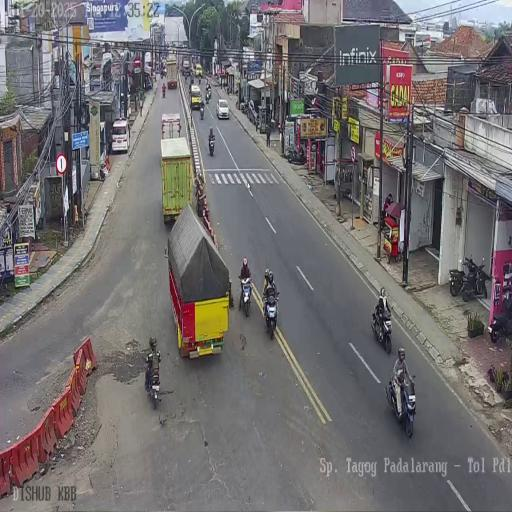3: (166, 204, 230, 360), (160, 134, 192, 225), (162, 112, 181, 139), (165, 56, 178, 90), (144, 52, 153, 78), (182, 58, 190, 76)
car: (110, 118, 130, 154), (190, 84, 202, 110), (216, 98, 230, 120), (247, 99, 258, 125), (195, 63, 202, 77)
truck: (386, 371, 416, 438), (461, 254, 489, 302), (372, 302, 392, 354), (488, 300, 512, 342), (264, 291, 279, 339), (238, 276, 252, 318), (149, 364, 161, 408), (449, 264, 465, 296), (286, 144, 306, 165), (208, 132, 215, 156), (240, 99, 248, 115), (199, 104, 205, 119), (205, 90, 210, 104), (235, 99, 239, 111), (162, 84, 165, 98), (160, 68, 164, 78), (190, 74, 193, 87), (198, 75, 201, 85)
